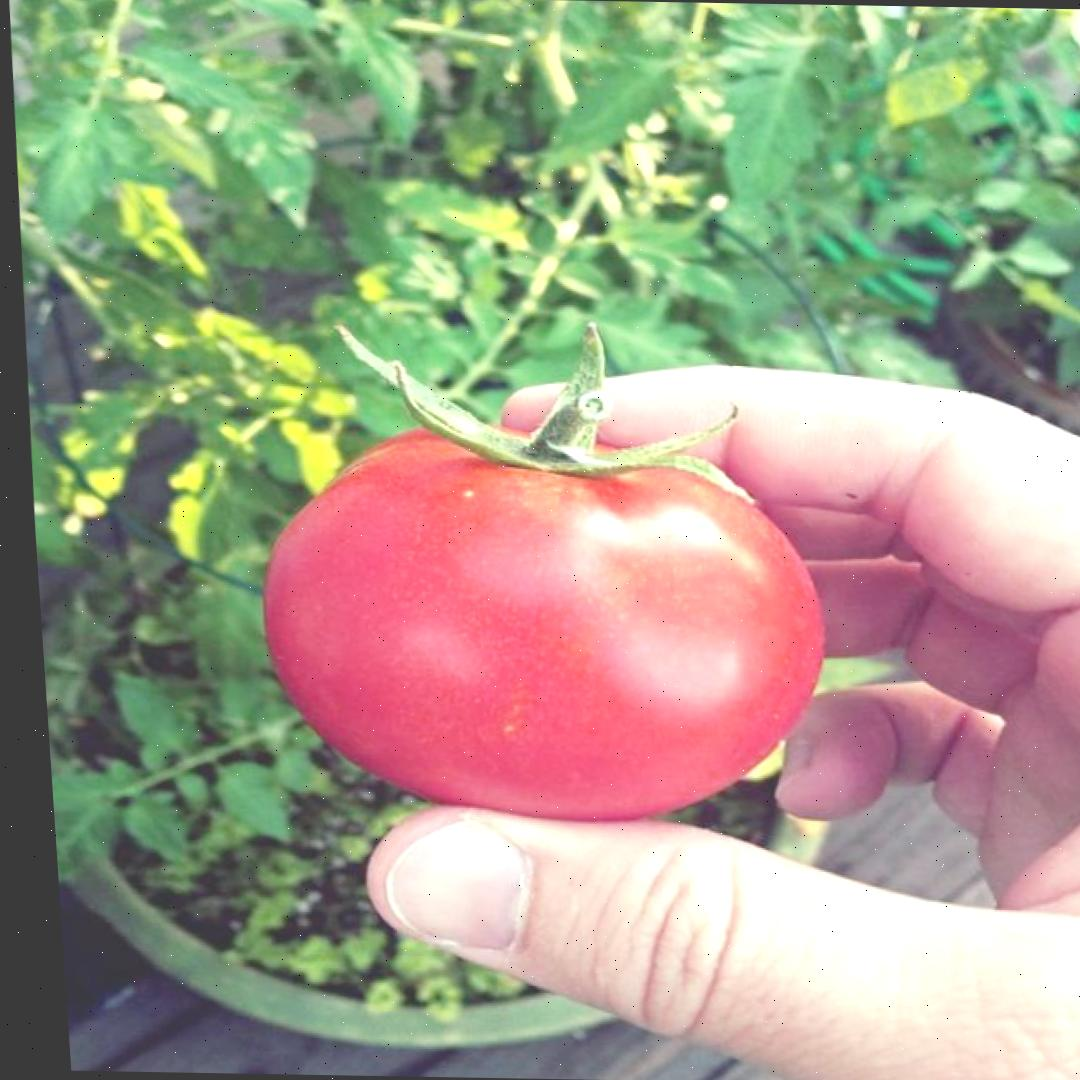matang: (235, 314, 841, 832)
